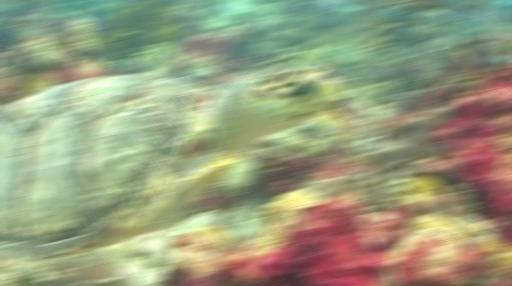Fish: (0, 68, 346, 260)
